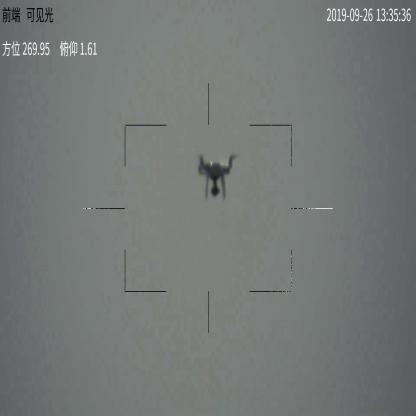uav: (195, 155, 238, 202)
